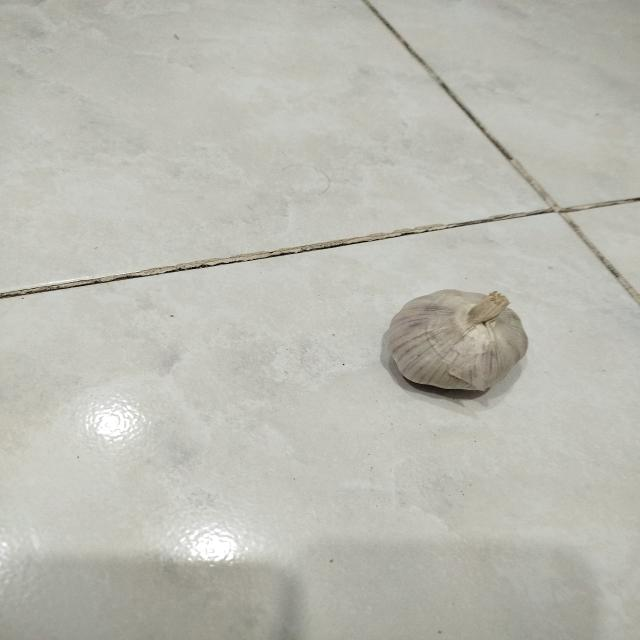garlic: (382, 288, 529, 392)
